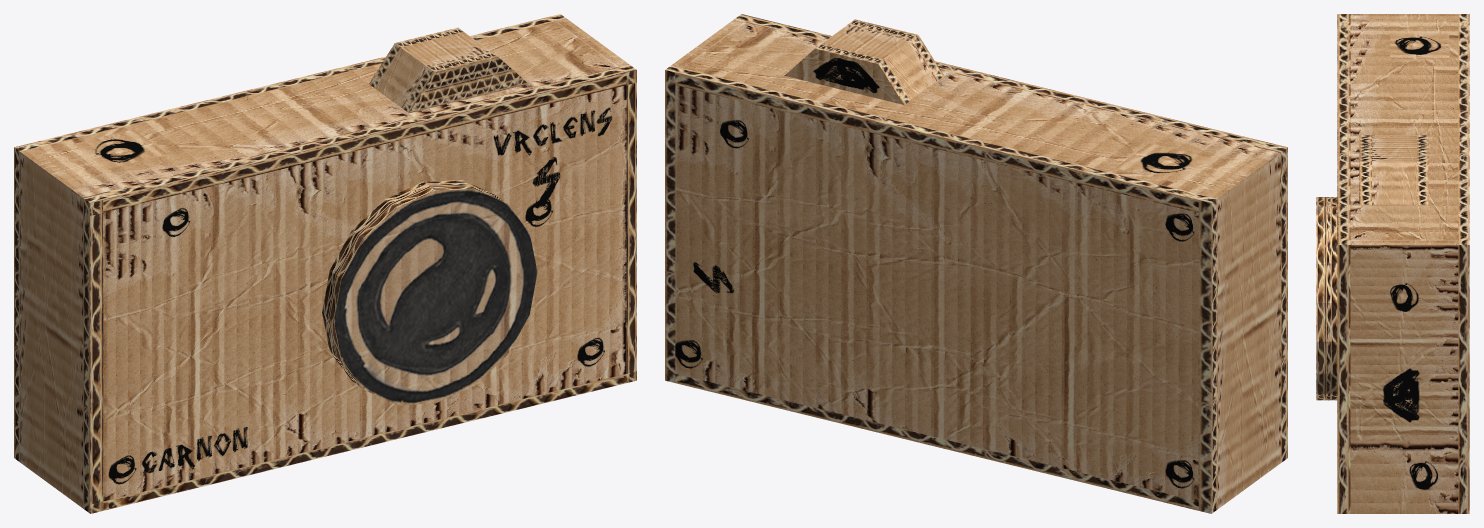
The model's file is Cardboard_Camera_-_Low_Poly_VRClens.glb.
The picture shows the model from 3 angles, left to right: view 1: azimuth 30°, elevation 25°; view 2: azimuth 150°, elevation 25°; view 3: azimuth 270°, elevation 25°; orthographic projection. The views are drawn at different scales.
Visible parts, largest first — view 1: CardboardCamera_cardboard_0; view 2: CardboardCamera_cardboard_0; view 3: CardboardCamera_cardboard_0.
Boxes of the visible parts, x1,y1,x2,y2 form: CardboardCamera_cardboard_0: (14,14,636,513); CardboardCamera_cardboard_0: (665,14,1287,513); CardboardCamera_cardboard_0: (1316,14,1469,513).
Size of the model in its own units: 0.0992 by 0.0599 by 0.0278.
1 material, 1 textured.
